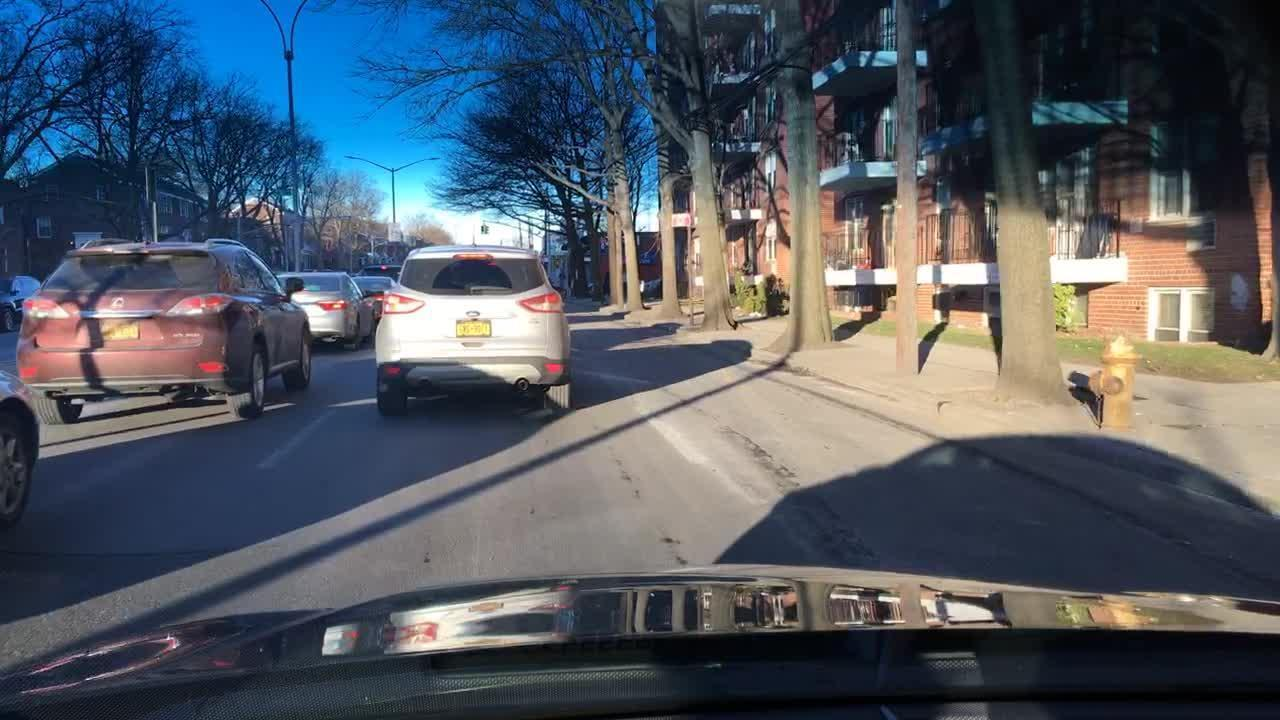lexus: (105, 291, 131, 312)
